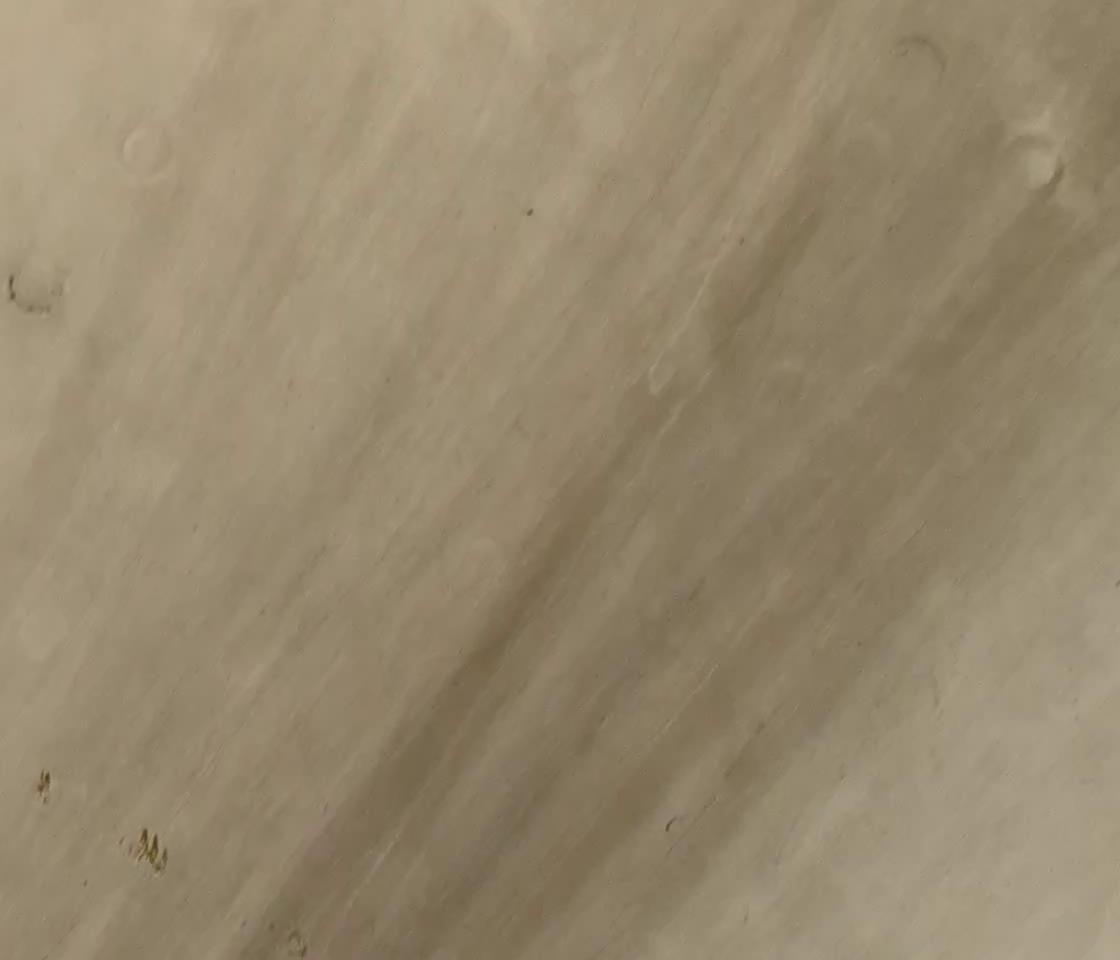scratch: (134, 829, 175, 878), (31, 759, 57, 806)
